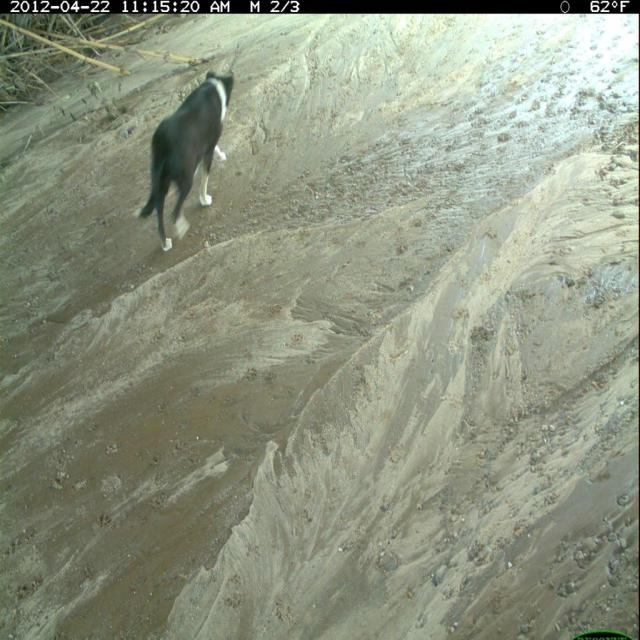dog: (130, 67, 240, 256)
